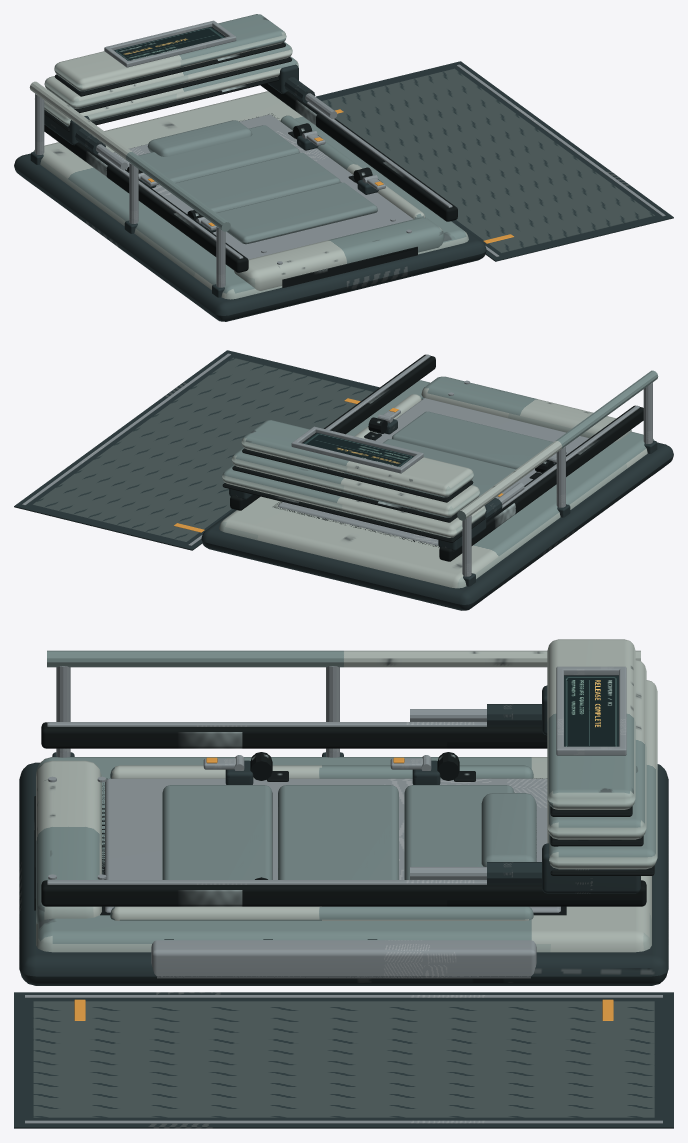
Rendered from released-berth.glb.
3 views of the same model, one above another, from view 1: azimuth 30°, elevation 25°; view 2: azimuth 150°, elevation 25°; view 3: azimuth 270°, elevation 25° (orthographic). The views are drawn at different scales.
Parts seen in each view (by area): view 1: Batch 01 warm ceramic enamel, Batch 12 deck tread, Batch 02 graphite powdercoat, Batch 10 washable recovery upholstery, Batch 03 satin stainless, Batch 04 EPDM gasket, Batch 11 release LCD; view 2: Batch 01 warm ceramic enamel, Batch 12 deck tread, Batch 02 graphite powdercoat, Batch 03 satin stainless, Batch 04 EPDM gasket, Batch 10 washable recovery upholstery, Batch 11 release LCD; view 3: Batch 12 deck tread, Batch 01 warm ceramic enamel, Batch 03 satin stainless, Batch 02 graphite powdercoat, Batch 10 washable recovery upholstery, Batch 04 EPDM gasket, Batch 11 release LCD.
Boxes of the visible parts, <box> form: Batch 01 warm ceramic enamel: <box>29,14,468,299</box>; Batch 12 deck tread: <box>322,68,654,253</box>; Batch 02 graphite powdercoat: <box>14,61,673,321</box>; Batch 10 washable recovery upholstery: <box>138,120,377,244</box>; Batch 03 satin stainless: <box>25,20,665,318</box>; Batch 04 EPDM gasket: <box>44,26,457,287</box>; Batch 11 release LCD: <box>114,26,224,60</box>; Batch 01 warm ceramic enamel: <box>219,370,658,588</box>; Batch 12 deck tread: <box>33,357,372,541</box>; Batch 02 graphite powdercoat: <box>14,350,673,610</box>; Batch 03 satin stainless: <box>22,353,656,608</box>; Batch 04 EPDM gasket: <box>222,354,643,561</box>; Batch 10 washable recovery upholstery: <box>383,411,553,496</box>; Batch 11 release LCD: <box>303,432,413,466</box>; Batch 12 deck tread: <box>33,1001,654,1117</box>; Batch 01 warm ceramic enamel: <box>36,639,657,952</box>; Batch 03 satin stainless: <box>25,666,662,1123</box>; Batch 02 graphite powdercoat: <box>14,685,673,1128</box>; Batch 10 washable recovery upholstery: <box>162,785,536,879</box>; Batch 04 EPDM gasket: <box>34,675,654,915</box>; Batch 11 release LCD: <box>564,675,618,746</box>.
Size of the model in its own units: 4.59 by 1.14 by 3.75.
Materials: 8 (6 with a texture image).
